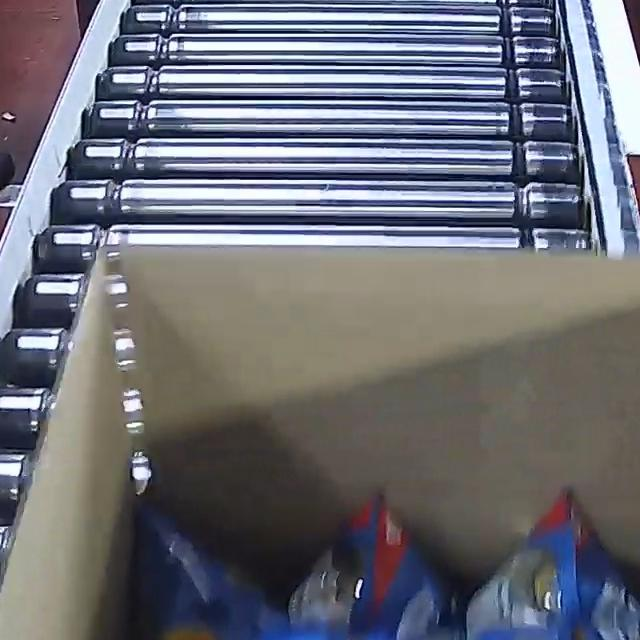paprika: (112, 482, 640, 640)
